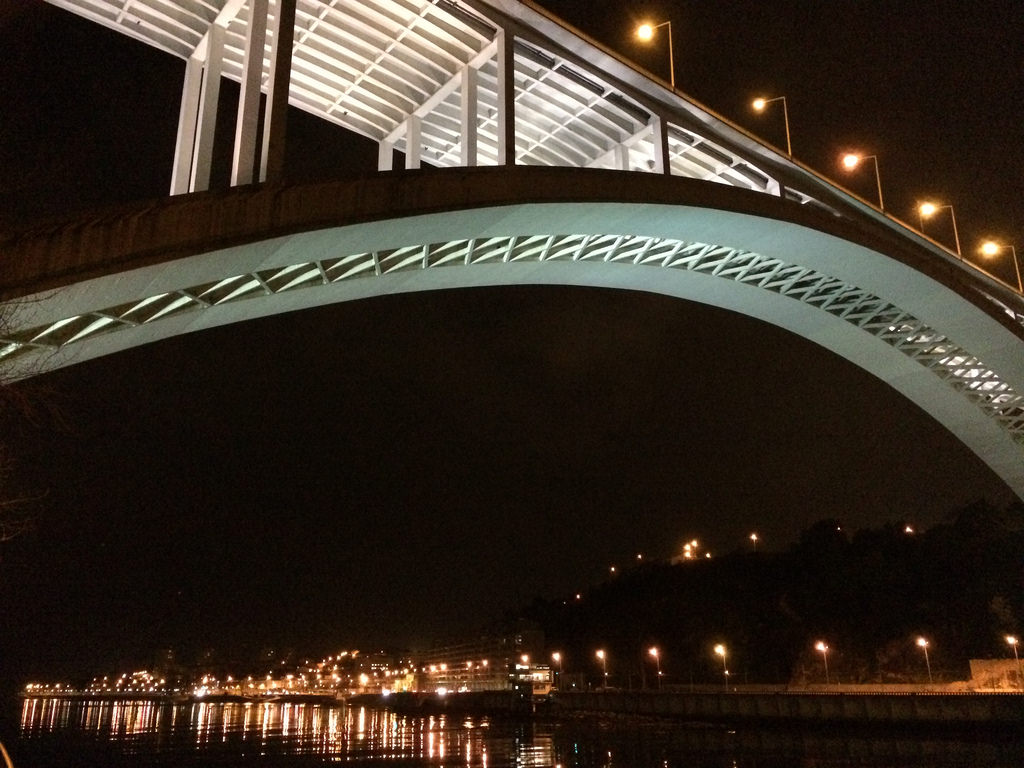arrabida: (0, 0, 1023, 505)
